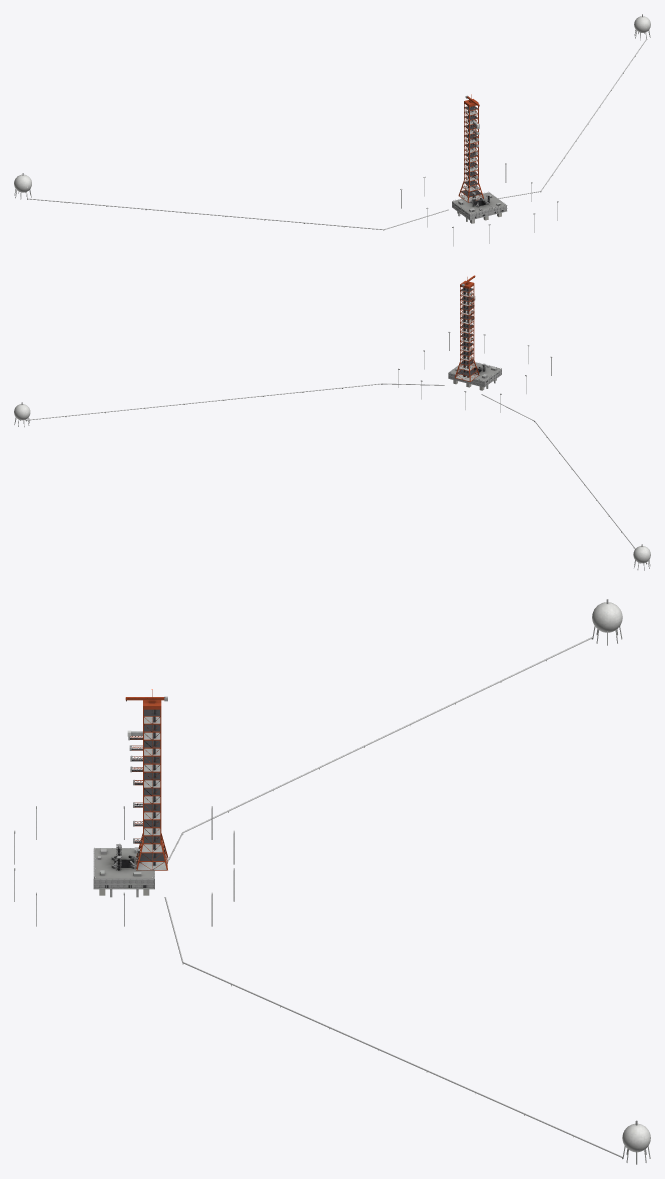
The model's file is launchpad.glb.
3 views of the same model, one above another, from view 1: azimuth 30°, elevation 25°; view 2: azimuth 150°, elevation 25°; view 3: azimuth 270°, elevation 25° (orthographic). The views are drawn at different scales.
Visible parts, largest first — view 1: Site, Tower, Pad; view 2: Site, Tower, Pad; view 3: Tower, Site, Pad.
Part boxes in pixels (bbox=[...]): Site: bbox=[14, 14, 650, 246]; Tower: bbox=[458, 94, 484, 202]; Pad: bbox=[452, 192, 507, 223]; Site: bbox=[14, 332, 650, 570]; Tower: bbox=[454, 275, 479, 381]; Pad: bbox=[448, 362, 501, 390]; Tower: bbox=[125, 689, 168, 870]; Site: bbox=[14, 599, 650, 1164]; Pad: bbox=[93, 843, 154, 897].
Bounding box in the file's own units: 860 × 158 × 435.
10 materials, 8 textured.
